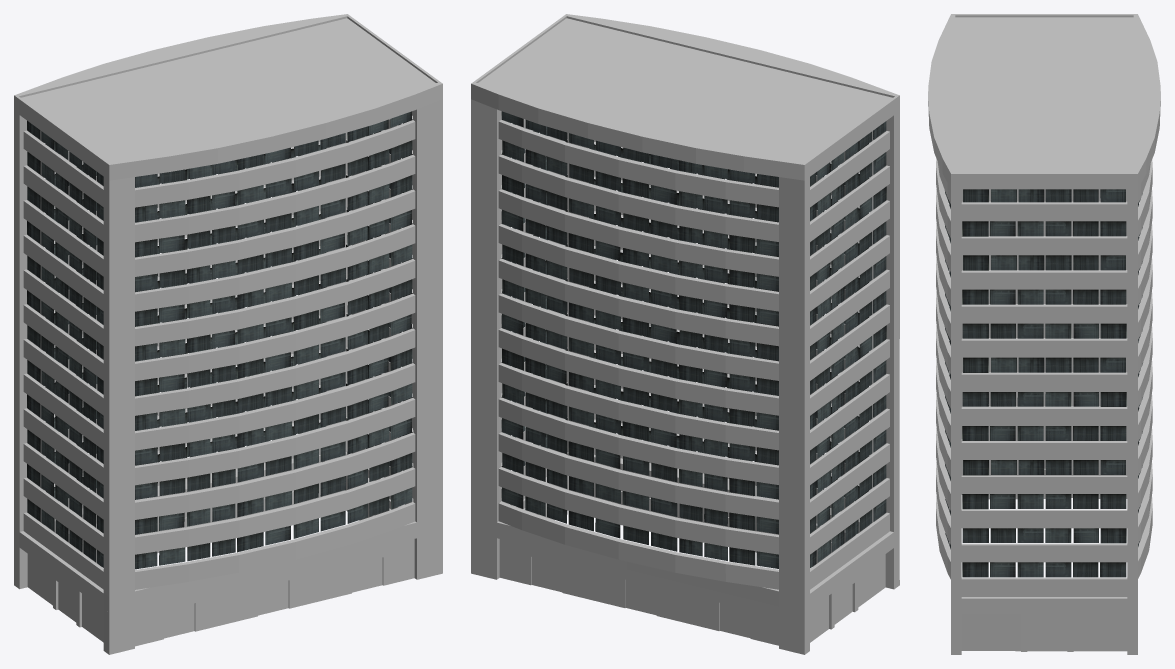
3 views of the same model, side by side, from view 1: azimuth 30°, elevation 25°; view 2: azimuth 150°, elevation 25°; view 3: azimuth 270°, elevation 25° (orthographic).
Parts seen in each view (by area): view 1: BC-067; view 2: BC-067; view 3: BC-067.
Boxes of the visible parts, bbox=[...] form: BC-067: bbox=[14, 14, 442, 654]; BC-067: bbox=[471, 14, 899, 654]; BC-067: bbox=[928, 14, 1160, 654].
Size of what is drawn, in the model's own units: 30.48 by 42.79 by 18.73.
